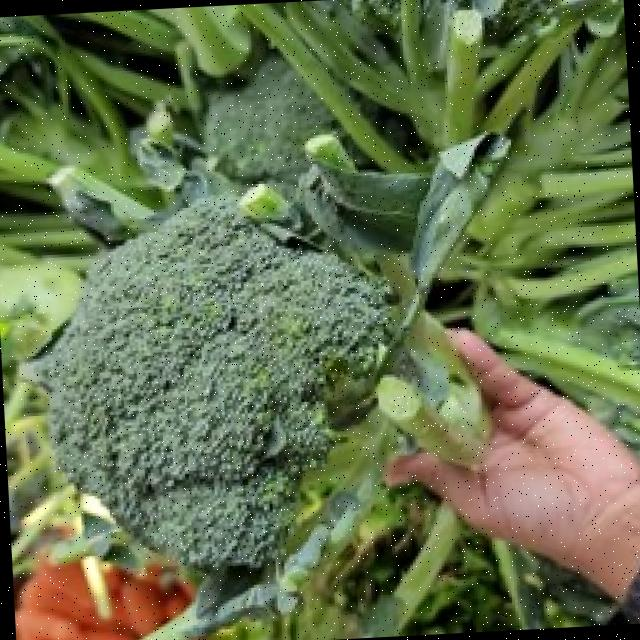Broccoli: (34, 201, 390, 563)
